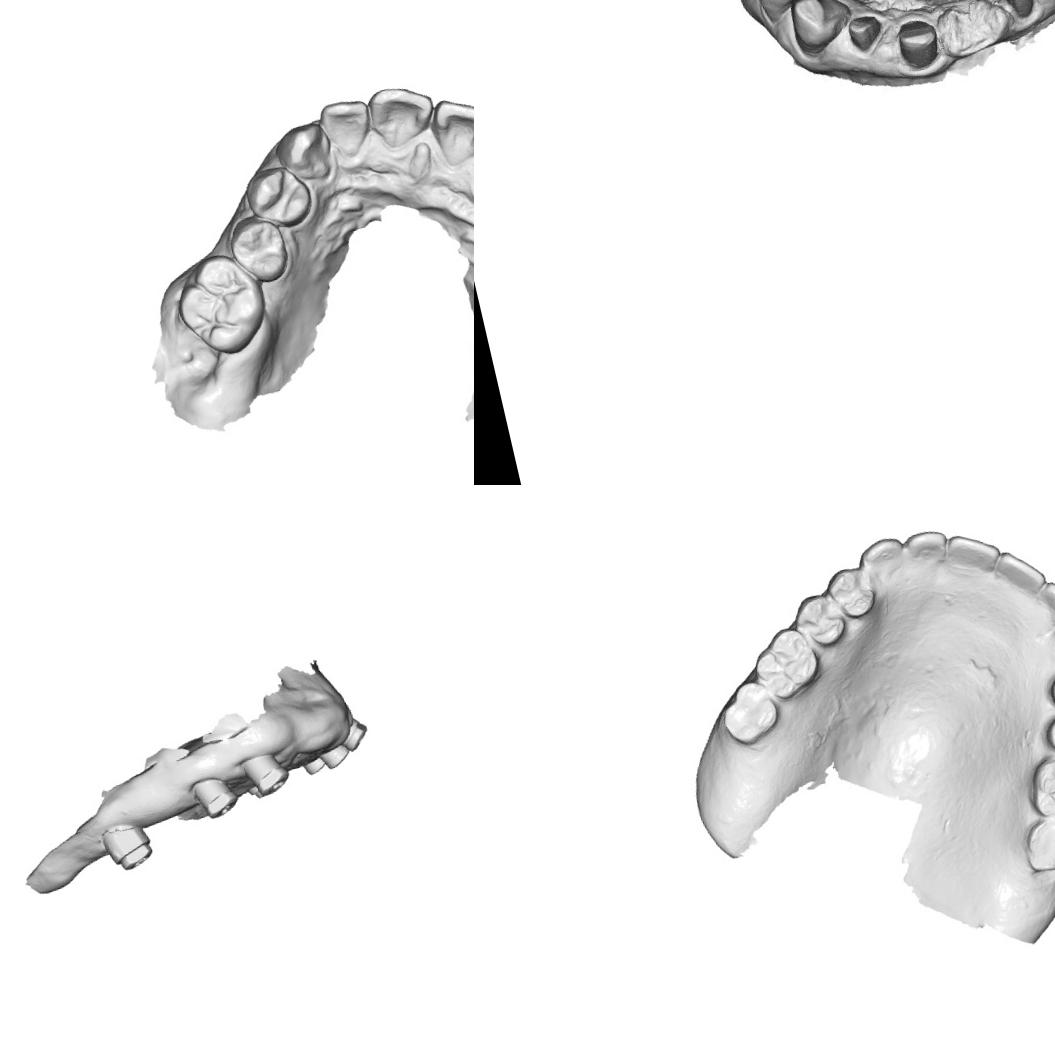canine: (269, 118, 337, 188), (786, 0, 853, 54), (856, 534, 908, 579)
crown: (894, 10, 948, 75), (840, 7, 884, 54), (998, 0, 1040, 17)
implant: (98, 818, 158, 876), (237, 747, 295, 802), (189, 770, 242, 823), (334, 712, 373, 754), (317, 741, 353, 771), (299, 754, 328, 777)
incisor: (360, 76, 442, 154), (316, 95, 378, 164), (425, 87, 474, 172), (940, 524, 1004, 583), (986, 543, 1048, 602), (898, 520, 950, 571), (1032, 577, 1055, 627)
molar: (166, 245, 276, 365), (745, 620, 826, 705), (714, 678, 785, 749), (1015, 812, 1055, 878), (1025, 744, 1055, 822)
premolar: (240, 159, 318, 237), (224, 210, 294, 291), (792, 588, 848, 652), (822, 560, 878, 622), (751, 0, 818, 20), (1040, 705, 1055, 763)
